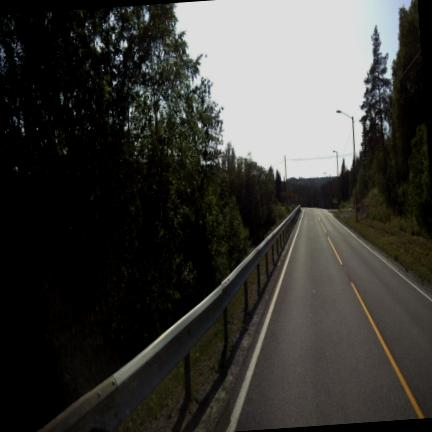Road: (229, 209, 431, 430)
